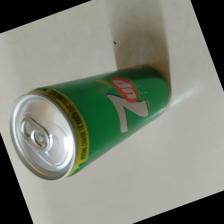7up: (8, 64, 172, 183)
